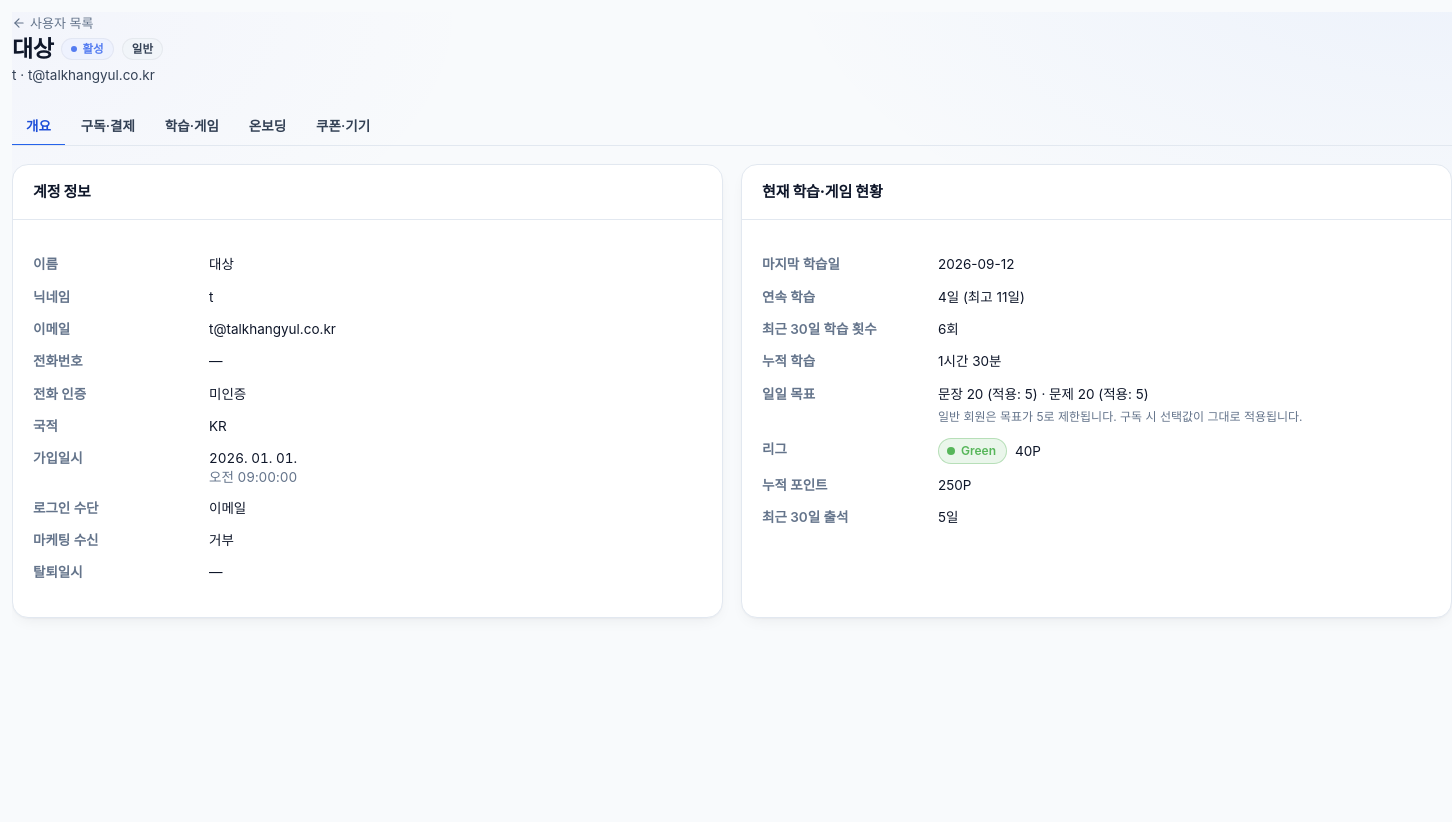
온보딩 › handles a member who never finished onboarding
Check: the text "계정 정보" is shown, box [33,180,91,203]
Step 1. Click the button "온보딩" → (267, 126), box [235,106,300,146]
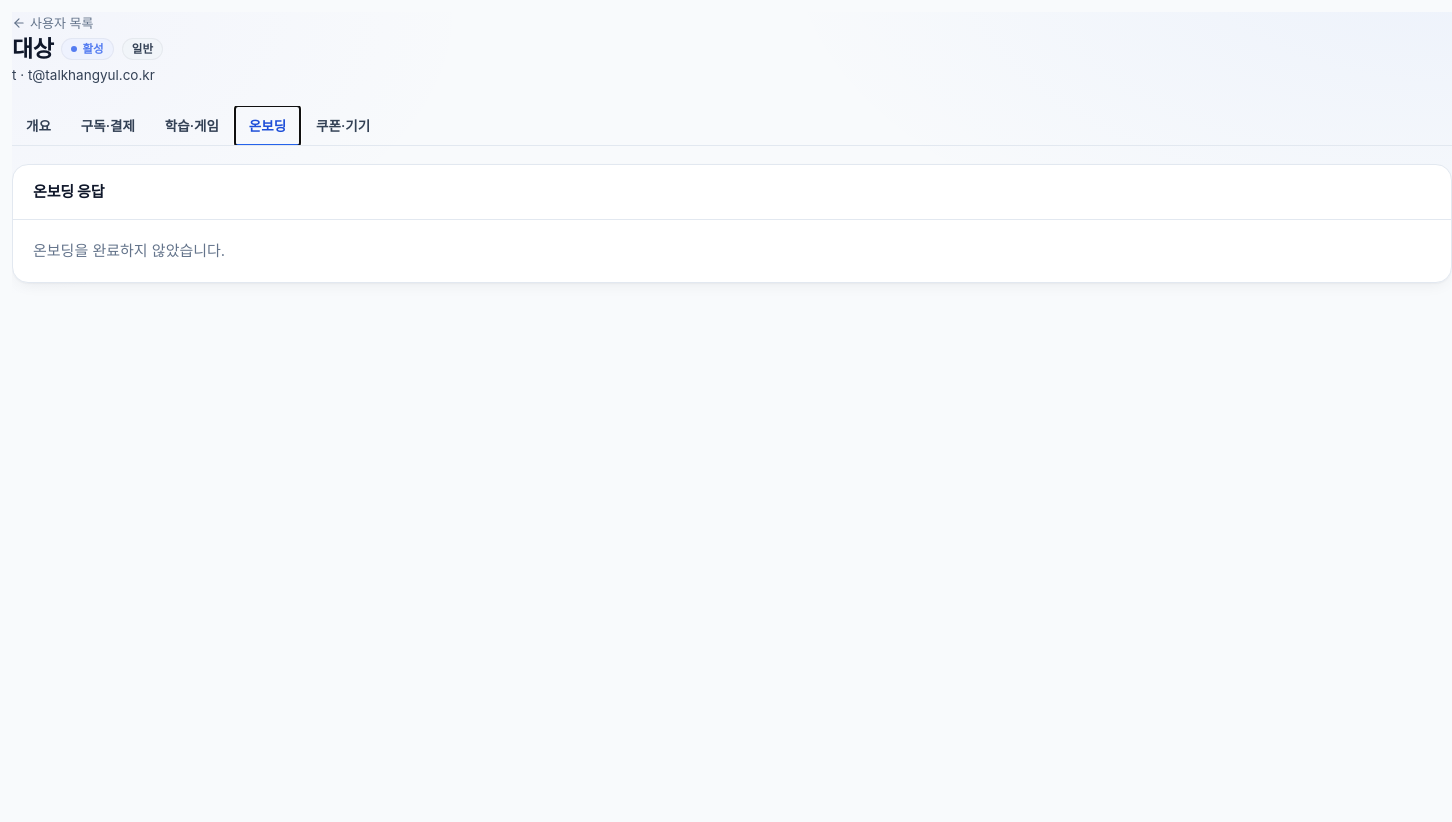
Check: the text "온보딩을 완료하지 않았습니다." is shown, box [33,241,225,260]
